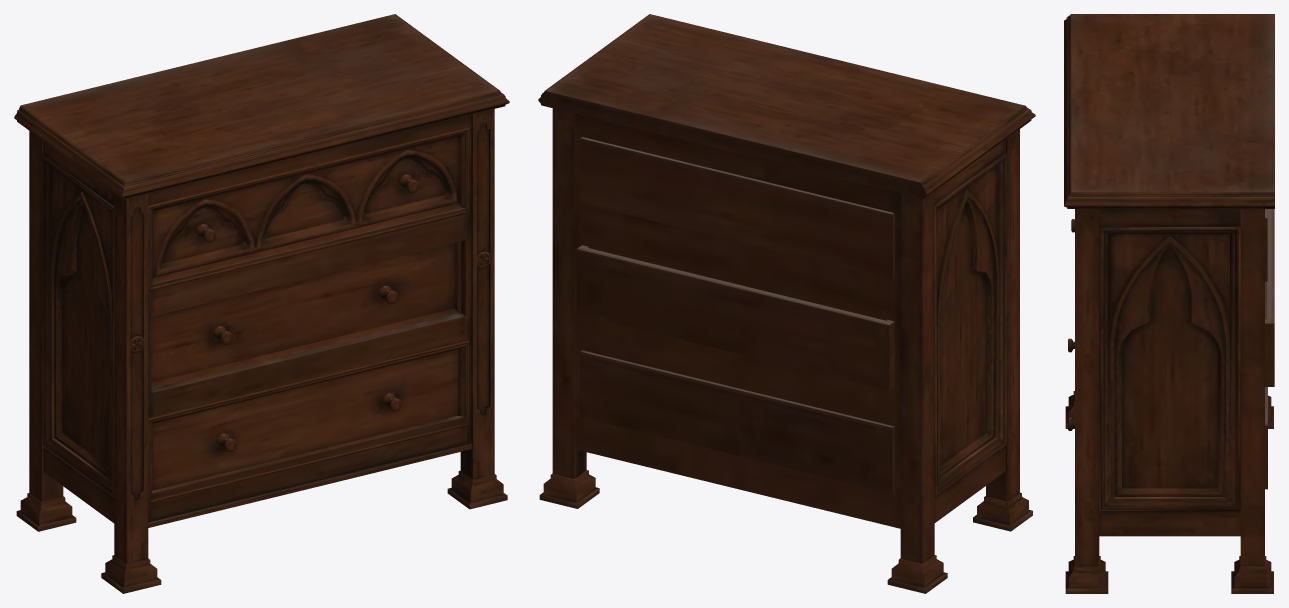
Rendered from gothiccommode_01.glb.
3 views of the same model, side by side, from view 1: azimuth 30°, elevation 25°; view 2: azimuth 150°, elevation 25°; view 3: azimuth 270°, elevation 25° (orthographic). The views are drawn at different scales.
Parts seen in each view (by area): view 1: GothicCommode_01; view 2: GothicCommode_01; view 3: GothicCommode_01.
Boxes of the visible parts, x1,y1,x2,y2 form: GothicCommode_01: (14, 14, 509, 593); GothicCommode_01: (538, 14, 1035, 593); GothicCommode_01: (1064, 14, 1274, 593).
Bounding box in the file's own units: 1.2 × 1.21 × 0.5806.
1 material, 1 textured.
